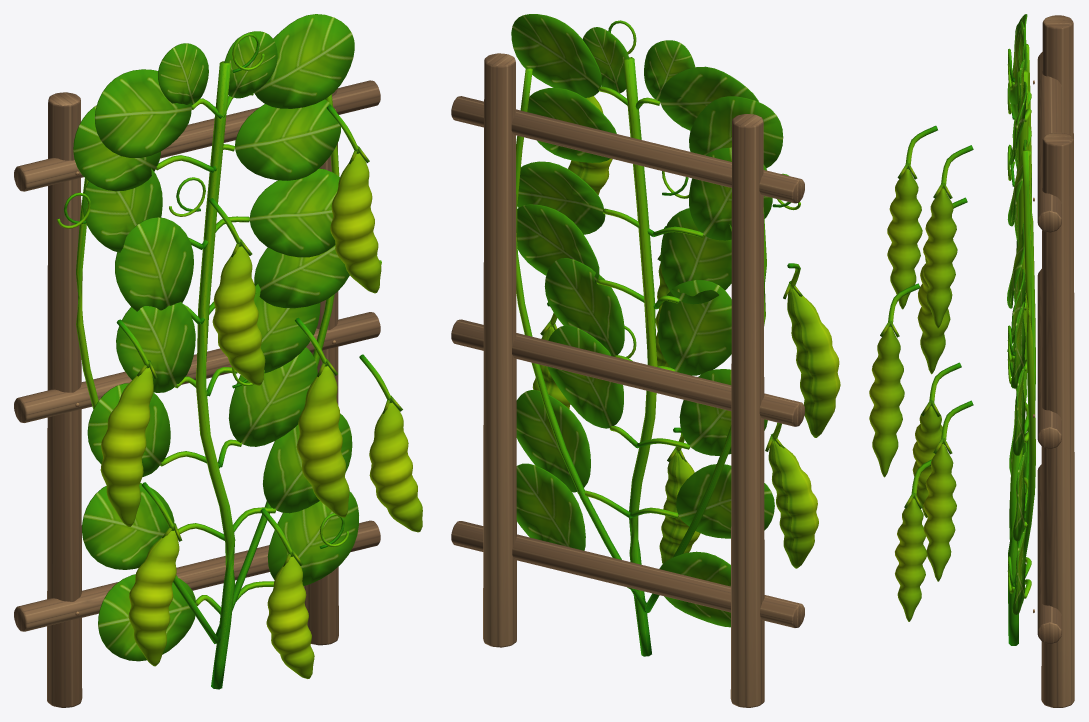
Rendered from NP_Pea_Ready.fbx.
3 renders of one model, left to right at view 1: azimuth 30°, elevation 25°; view 2: azimuth 150°, elevation 25°; view 3: azimuth 270°, elevation 25°, orthographic. The views are drawn at different scales.
Visible parts, largest first — view 1: NP_Pea_Ready; view 2: NP_Pea_Ready; view 3: NP_Pea_Ready.
Part boxes in pixels (bbox=[...]): NP_Pea_Ready: bbox=[14, 14, 422, 707]; NP_Pea_Ready: bbox=[451, 14, 840, 707]; NP_Pea_Ready: bbox=[869, 14, 1074, 707].
Size of the model in its own units: 65 by 114 by 34.85.
